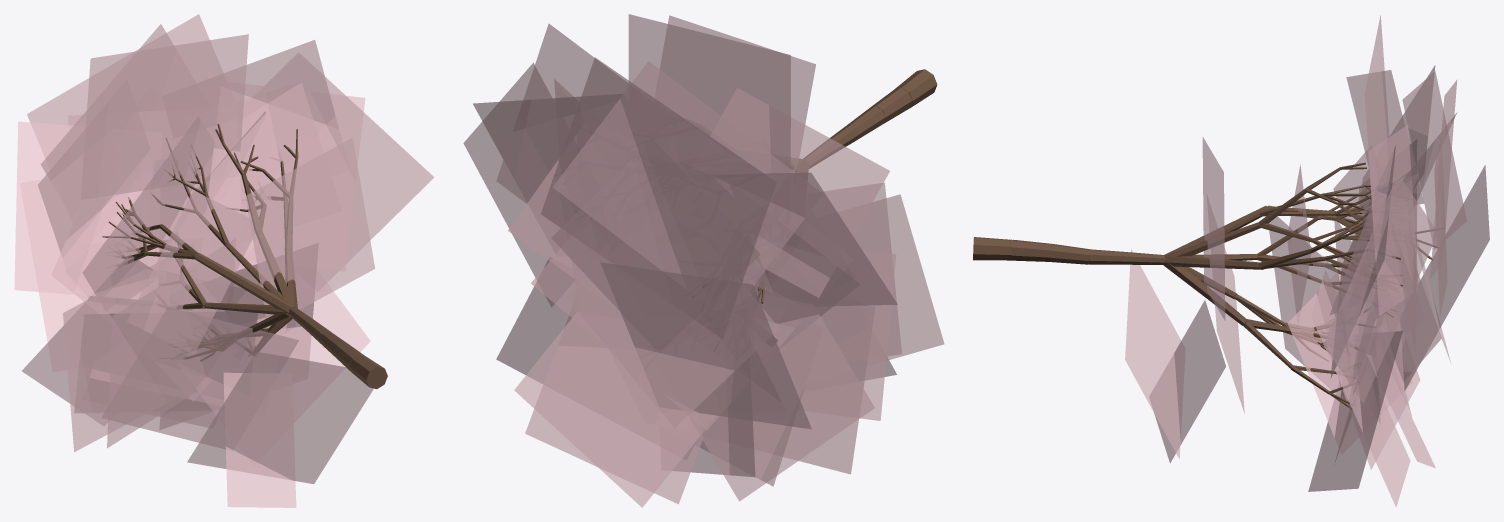
Rendered from peach_tree_lod_0.glb.
The picture shows the model from 3 angles, left to right: view 1: azimuth 30°, elevation 25°; view 2: azimuth 150°, elevation 25°; view 3: azimuth 270°, elevation 25°; orthographic projection. The views are drawn at different scales.
Visible parts, largest first — view 1: PeachBlossoms, PeachBark; view 2: PeachBlossoms, PeachBark; view 3: PeachBlossoms, PeachBark.
Boxes of the visible parts, box(x1,y1,x2,y2) form: PeachBlossoms: box(14, 14, 433, 507); PeachBark: box(102, 124, 387, 389); PeachBlossoms: box(463, 14, 944, 507); PeachBark: box(702, 69, 937, 303); PeachBlossoms: box(1125, 15, 1489, 506); PeachBark: box(973, 162, 1438, 409).
Bounding box in the file's own units: 8.33 × 8.2 × 9.25.
